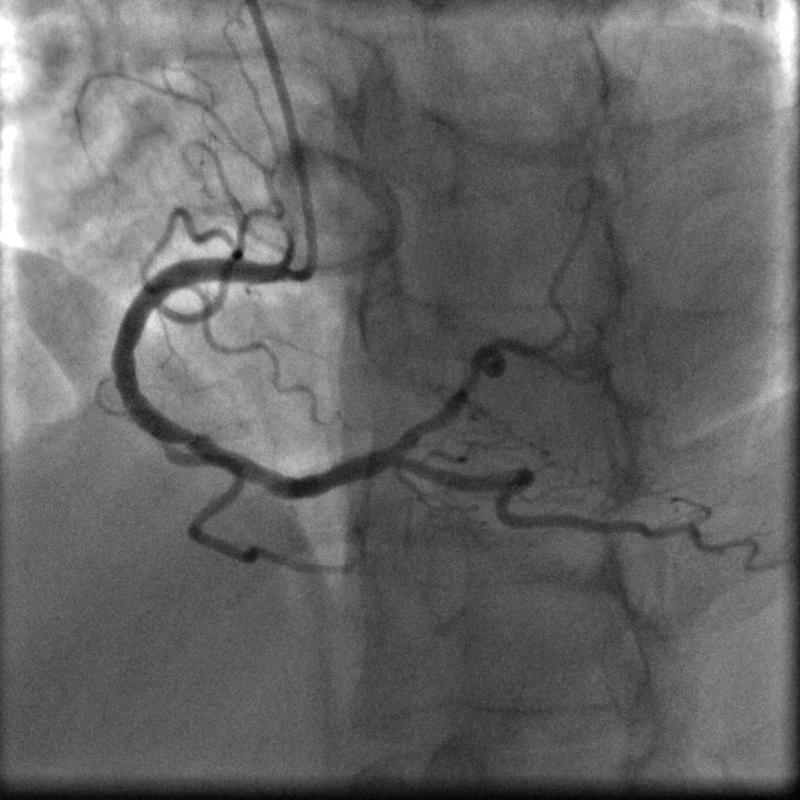Stenosis: (452, 358, 484, 405)
